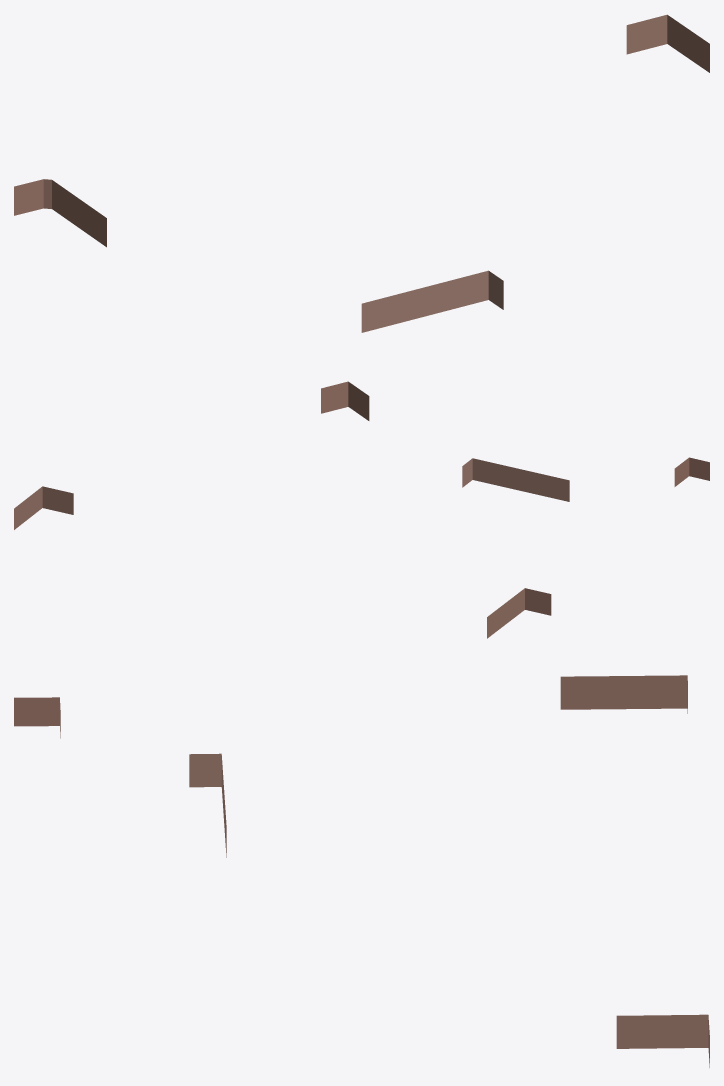
File: c_1634_17828_buildings_residential.glb
3 views of the same model, one above another, from view 1: azimuth 30°, elevation 25°; view 2: azimuth 150°, elevation 25°; view 3: azimuth 270°, elevation 25° (orthographic). The views are drawn at different scales.
Visible parts, largest first — view 1: geometry_0; view 2: geometry_0; view 3: geometry_0.
Part boxes in pixels (bbox=[...]): geometry_0: bbox=[14, 14, 709, 420]; geometry_0: bbox=[14, 457, 709, 638]; geometry_0: bbox=[14, 675, 709, 1067].
Size of the model in its own units: 261 by 12.69 by 209.
